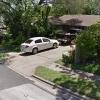Car: (20, 33, 66, 55)
